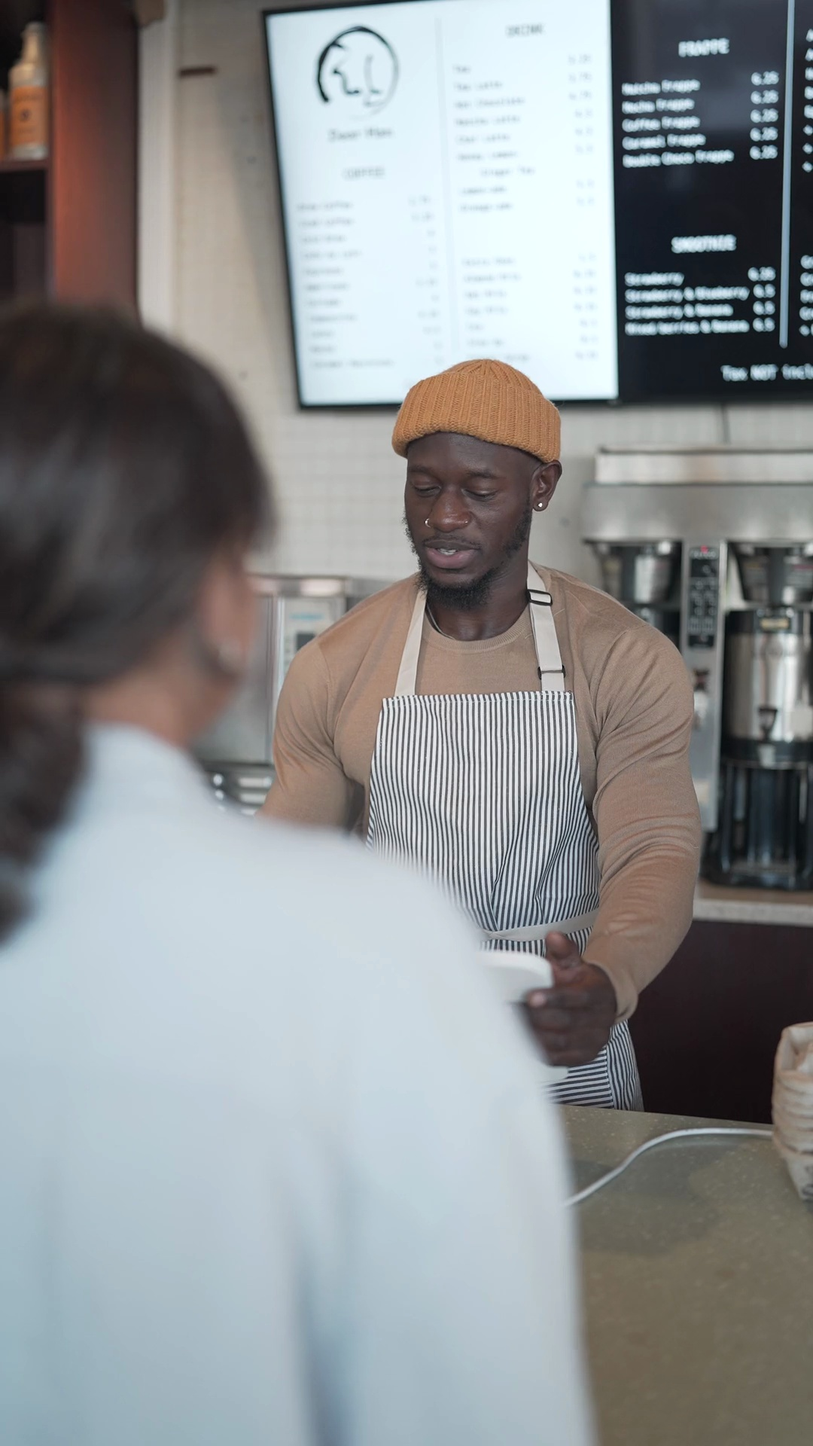dates_box: (240, 0, 813, 426), (578, 0, 799, 291)
watch: (321, 459, 813, 1385), (0, 485, 608, 1180), (269, 304, 793, 946), (0, 514, 614, 998), (405, 810, 813, 1440), (285, 306, 686, 891), (408, 443, 813, 949), (540, 892, 813, 1445)
